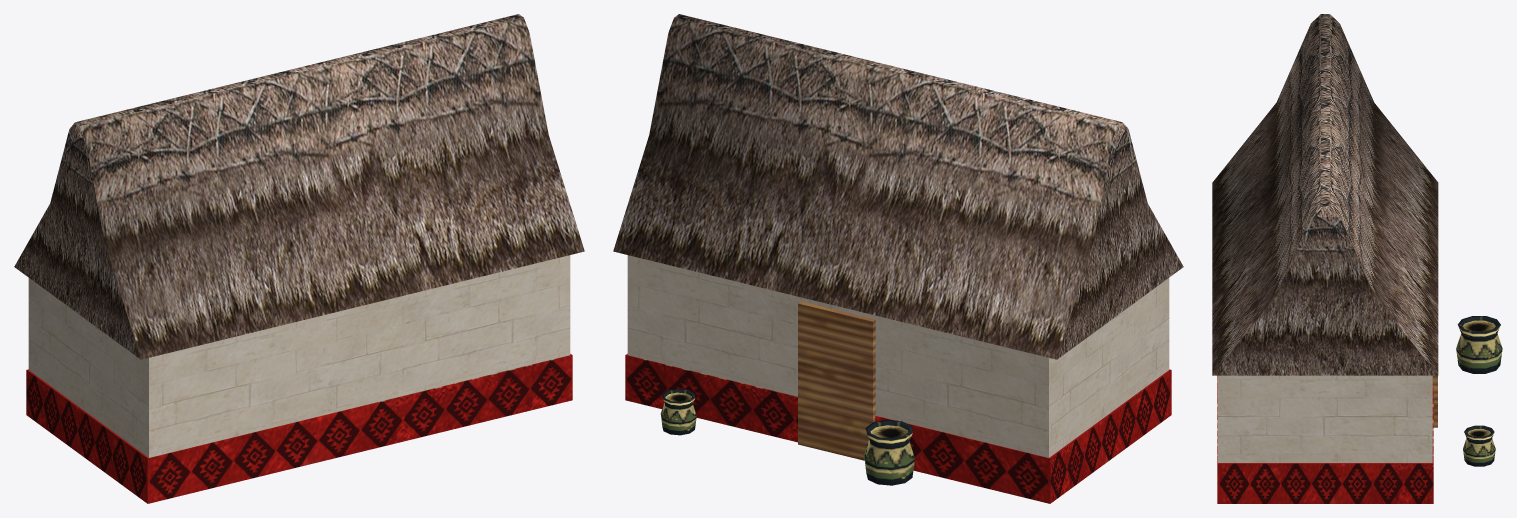
The model's file is house_1.dae.
The picture shows the model from 3 angles, left to right: view 1: azimuth 30°, elevation 25°; view 2: azimuth 150°, elevation 25°; view 3: azimuth 270°, elevation 25°; orthographic projection. The views are drawn at different scales.
Parts seen in each view (by area): view 1: Cilindro; view 2: Cilindro; view 3: Cilindro.
Part boxes in pixels (x1,y1,x2,y2): Cilindro: [14, 14, 584, 503]; Cilindro: [613, 14, 1183, 503]; Cilindro: [1212, 14, 1502, 503].
Size of the model in its own units: 13.37 by 8.49 by 9.72.
